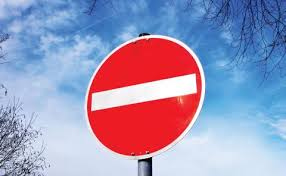No_entry: (85, 35, 206, 159)
